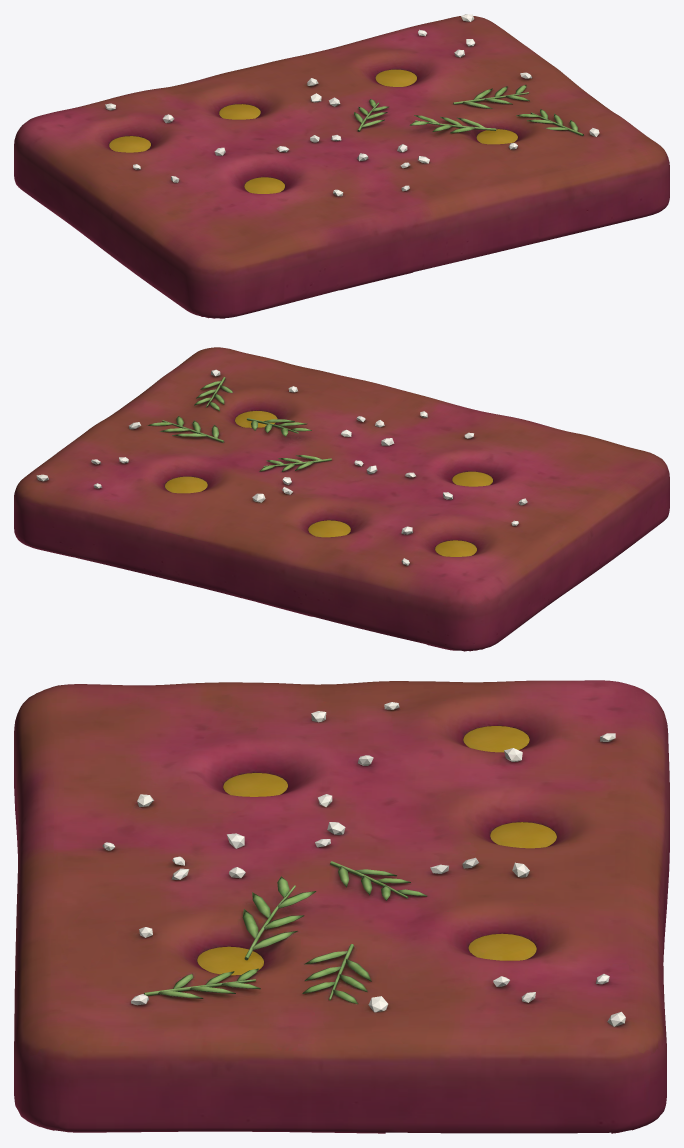
File: focaccia--beet-puree.glb
3 views of the same model, one above another, from view 1: azimuth 30°, elevation 25°; view 2: azimuth 150°, elevation 25°; view 3: azimuth 270°, elevation 25° (orthographic). The views are drawn at different scales.
Visible parts, largest first — view 1: focaccia_beet-puree; view 2: focaccia_beet-puree; view 3: focaccia_beet-puree.
Boxes of the visible parts, box(x1,y1,x2,y2) form: focaccia_beet-puree: box(14, 14, 669, 318); focaccia_beet-puree: box(14, 347, 669, 651); focaccia_beet-puree: box(14, 680, 669, 1133).
Bounding box in the file's own units: 1.01 × 0.143 × 0.7441.
Materials: 1 (1 with a texture image).
